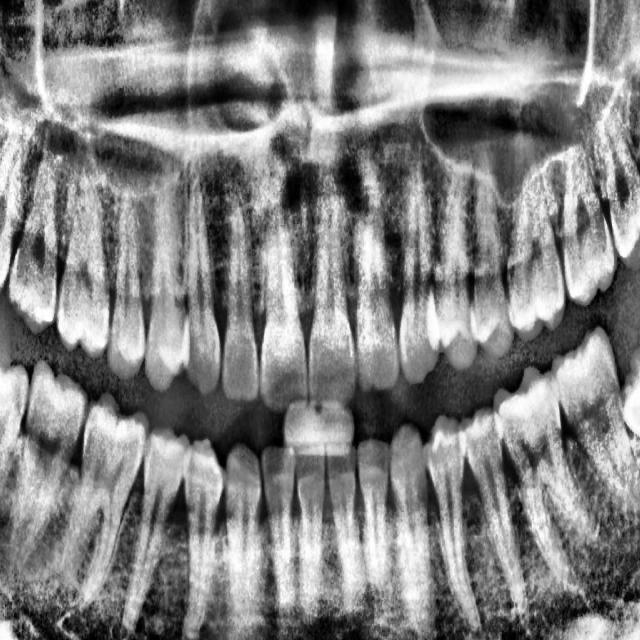Impacted Tooth: (0, 334, 35, 541), (611, 304, 640, 471)
